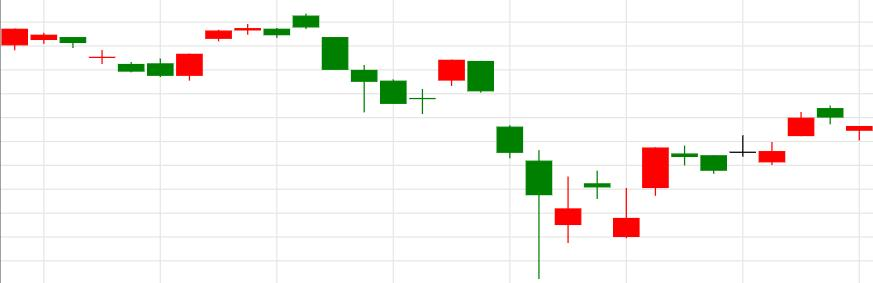hammer_rise: (438, 59, 552, 278)
